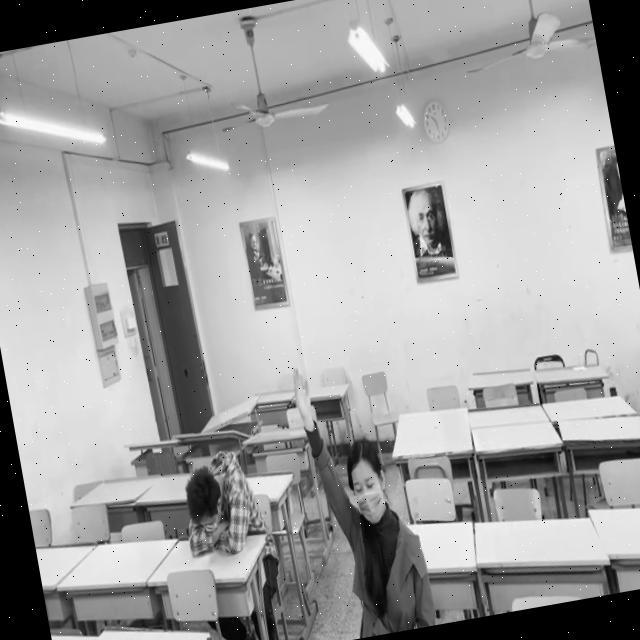sleep: (174, 452, 264, 561)
study: (290, 347, 439, 640)
